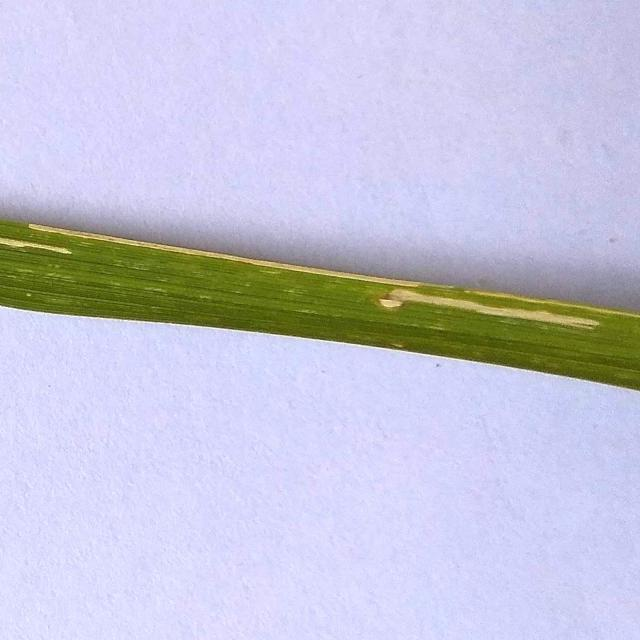Leaf_Blast: (370, 286, 422, 340)
